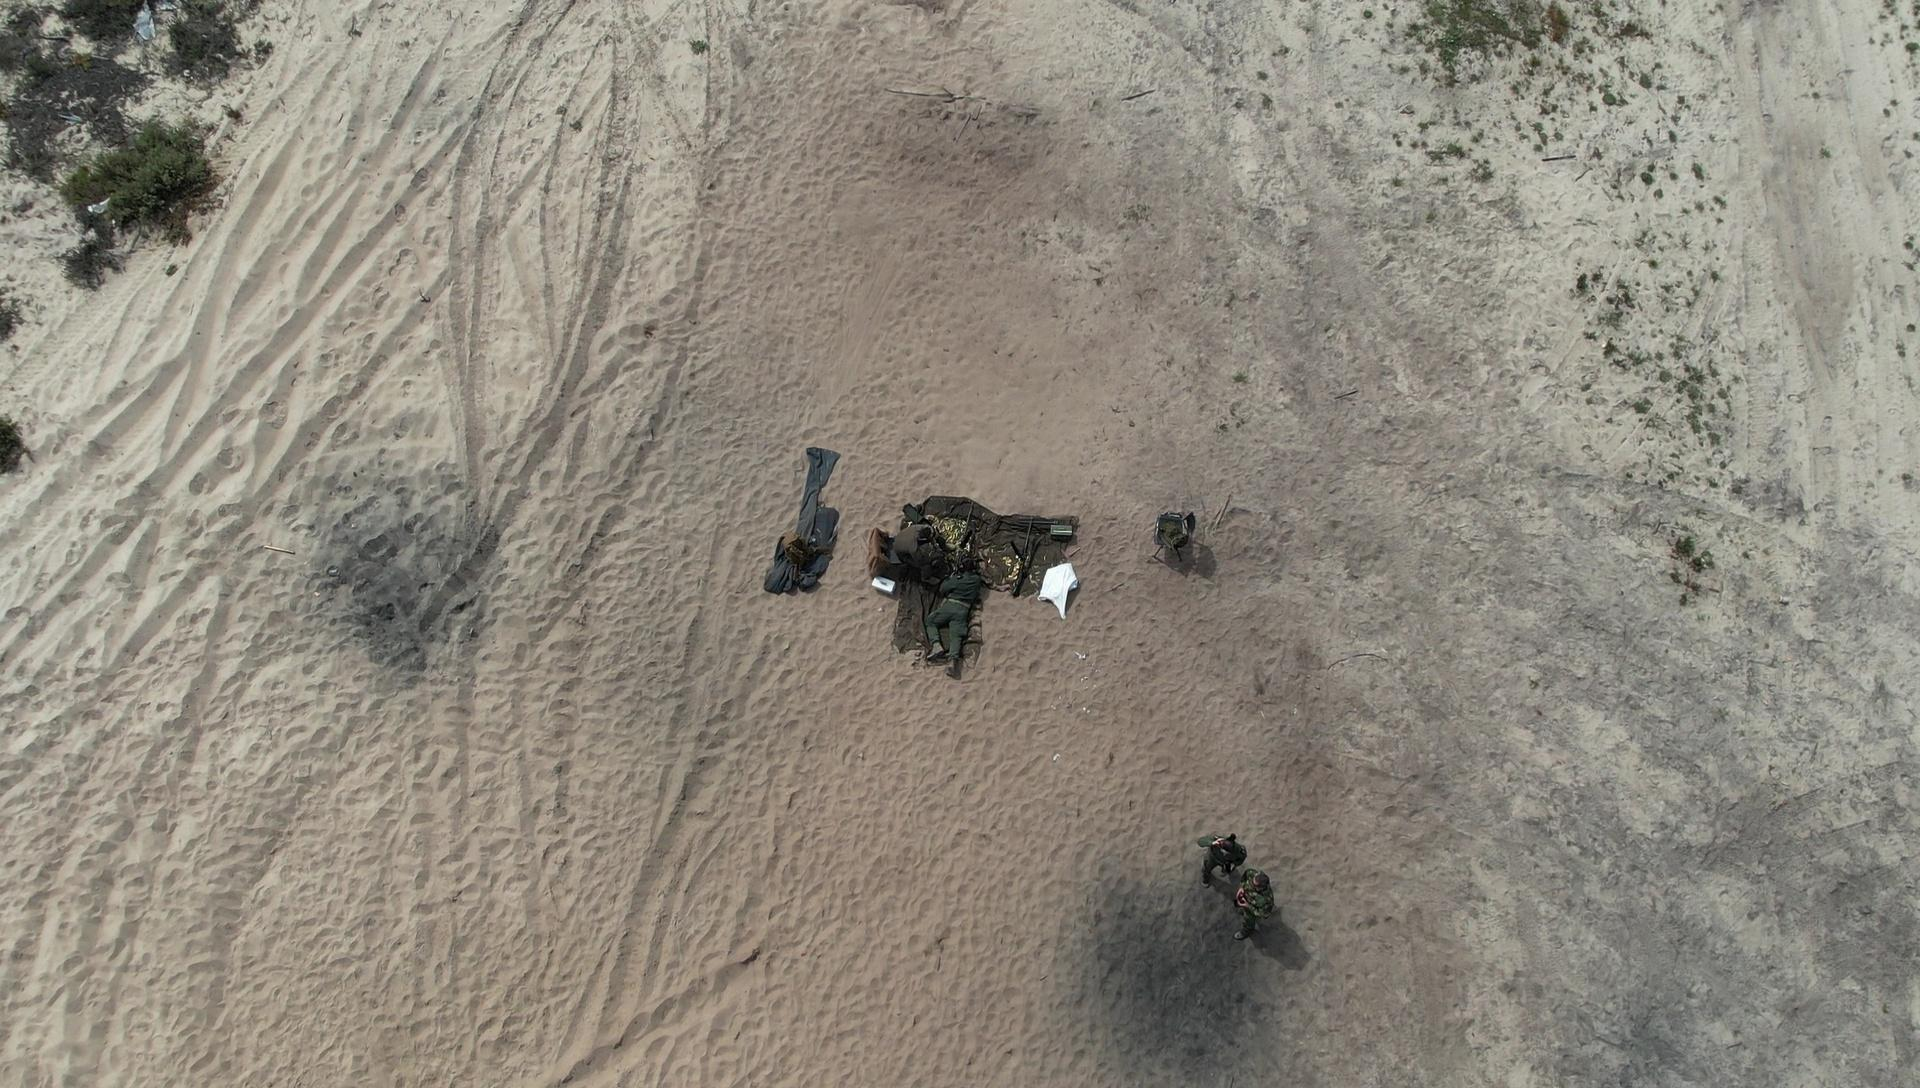Soldier: (905, 529, 986, 659), (1218, 853, 1292, 959), (1193, 826, 1257, 901), (891, 512, 938, 571)
